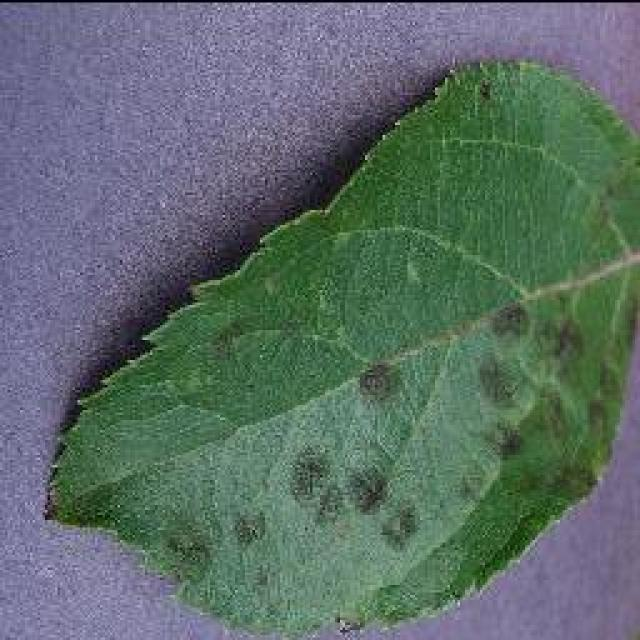apple scab disease: (42, 55, 638, 637)
